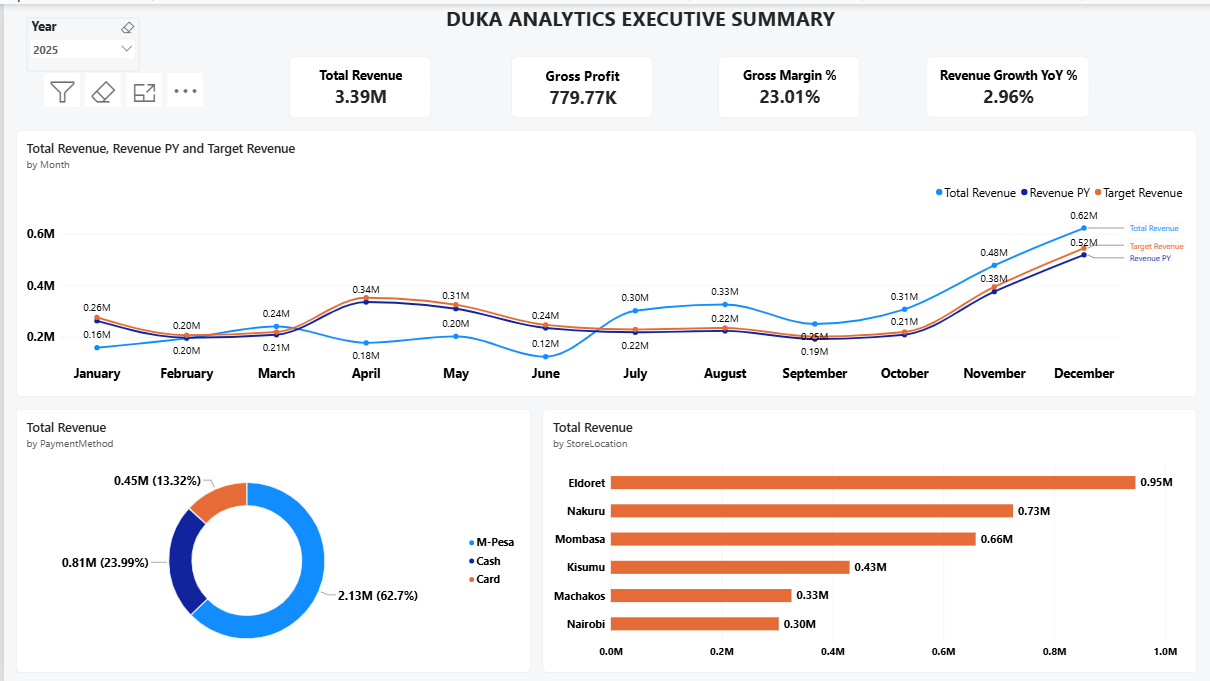

What the dashboard file says about the page in this screenshot:
{"tool":"powerbi","page":{"name":"Executive Summary","canvas":[1920,1080],"ordinal":1},"visuals":[{"type":"donutChart","fields":{"Category":["FactSales.PaymentMethod"],"Y":["Table.Total revenue"]},"box":[19,645.2,819,419],"z":0},{"type":"lineChart","fields":{"Category":["LocalDateTable_d72593ba-37ae-435d-811b-f248142217bb.Month"],"Y":["Table.Total revenue","Table.Revenue PY","Measures_table.Target Revenue"]},"box":[19,200,1878.6,423.8],"z":1000},{"type":"cardVisual","fields":{"Data":["Table.Total revenue"]},"box":[452.4,83.3,226.7,98.3],"z":2000},{"type":"cardVisual","fields":{"Data":["Table.Gross Profit"]},"box":[807.1,83.3,226.7,98.3],"z":3000},{"type":"cardVisual","fields":{"Data":["Table.Gross Margin %"]},"box":[1135.7,83.3,226.7,98.3],"z":4000},{"type":"cardVisual","fields":{"Data":["Table.Revenue YoY %"]},"box":[1466.7,83.3,259.5,97.6],"z":5000},{"type":"slicer","fields":{"Values":["LocalDateTable_d72593ba-37ae-435d-811b-f248142217bb.Year"]},"box":[35.7,21.4,178.6,85.7],"z":6000},{"type":"textbox","box":[233.3,0,1557.1,64.3],"z":7000},{"type":"barChart","fields":{"Category":["FactSales.StoreLocation"],"Y":["Table.Total Revenue"]},"box":[857.1,645.2,1040.5,419],"z":8000}]}

Visuals, with their boxes in screenshot pixels (x1, y1, x2, y2), scaled from the page's 1920x1080 canvas onto the 1210x681 screenshot:
donutChart - FactSales.PaymentMethod x Table.Total revenue: [x1=12, y1=407, x2=528, y2=671]
lineChart - LocalDateTable_d72593ba-37ae-435d-811b-f248142217bb.Month x Table.Total revenue: [x1=12, y1=126, x2=1196, y2=393]
cardVisual - Table.Total revenue: [x1=285, y1=53, x2=428, y2=115]
cardVisual - Table.Gross Profit: [x1=509, y1=53, x2=652, y2=115]
cardVisual - Table.Gross Margin %: [x1=716, y1=53, x2=859, y2=115]
cardVisual - Table.Revenue YoY %: [x1=924, y1=53, x2=1088, y2=114]
slicer - LocalDateTable_d72593ba-37ae-435d-811b-f248142217bb.Year: [x1=22, y1=13, x2=135, y2=68]
textbox: [x1=147, y1=0, x2=1128, y2=41]
barChart - FactSales.StoreLocation x Table.Total Revenue: [x1=540, y1=407, x2=1196, y2=671]
